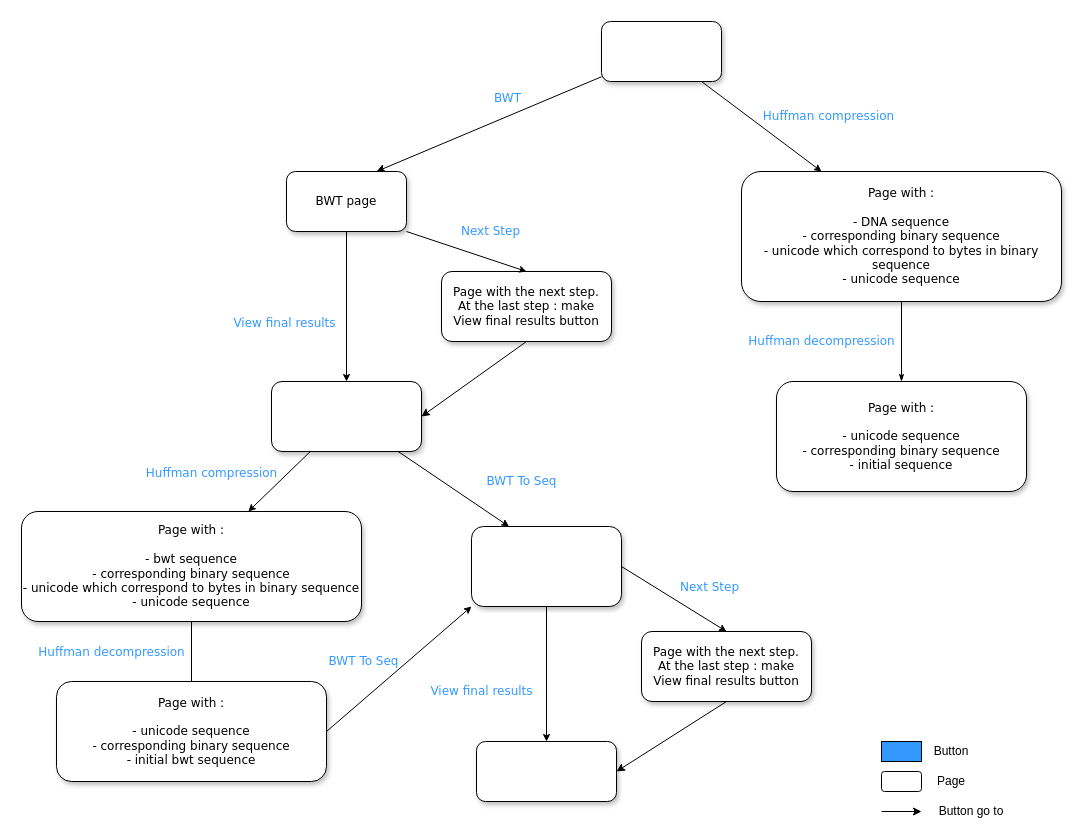
Some shapes in this 1085 by 839 pixel diagram are drawn without their labels. The centre of each missing label's shape, as x and y in pixels:
"BwtToSeq Page" belongs at point 547,568.
"main page" belongs at point 662,52.
"Page with : - view of last step - BWT sequence" belongs at point 347,417.
"Page with : - view of the last step - initial sequence" belongs at point 547,772.
